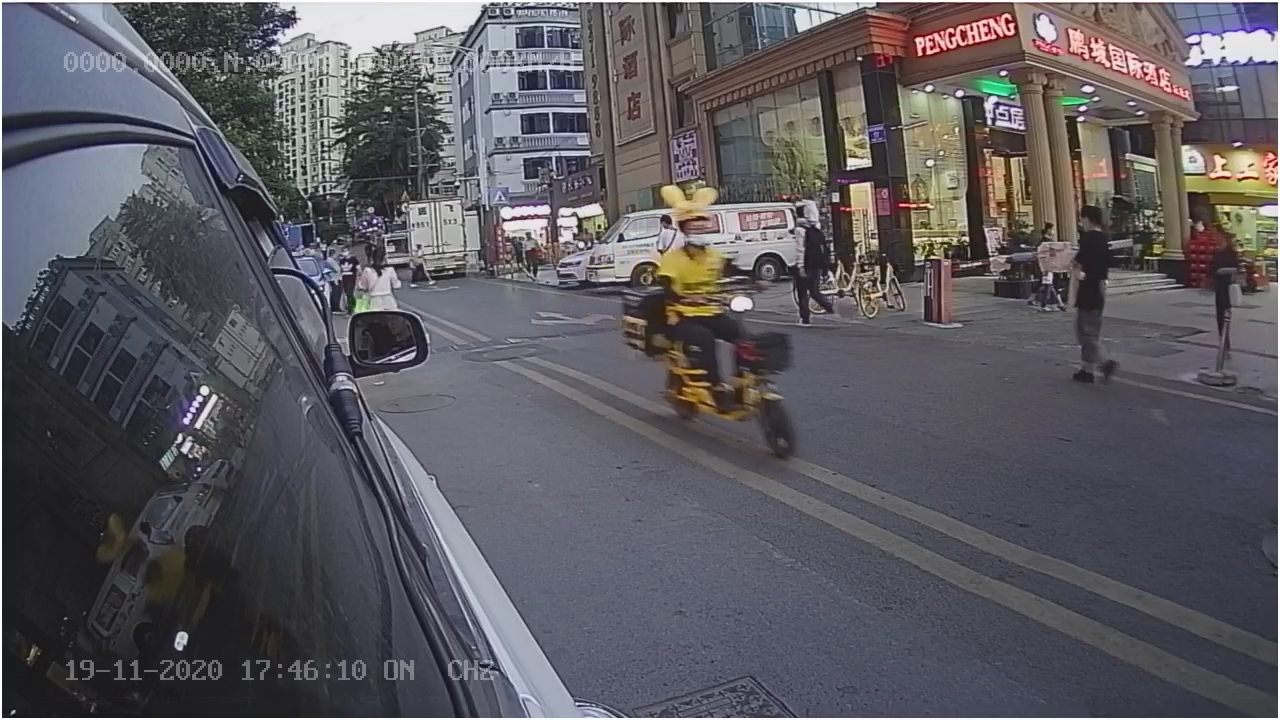person: (1056, 199, 1130, 398)
